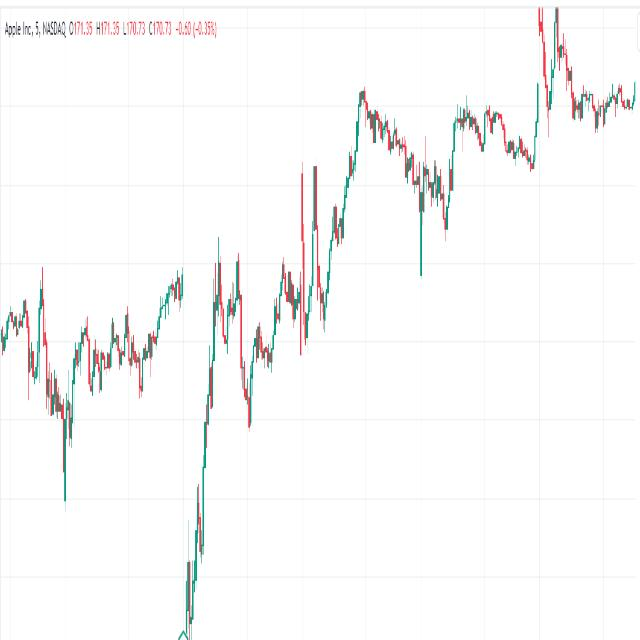Channel-down: (349, 60, 467, 259)
Double-Top: (208, 240, 246, 372)
